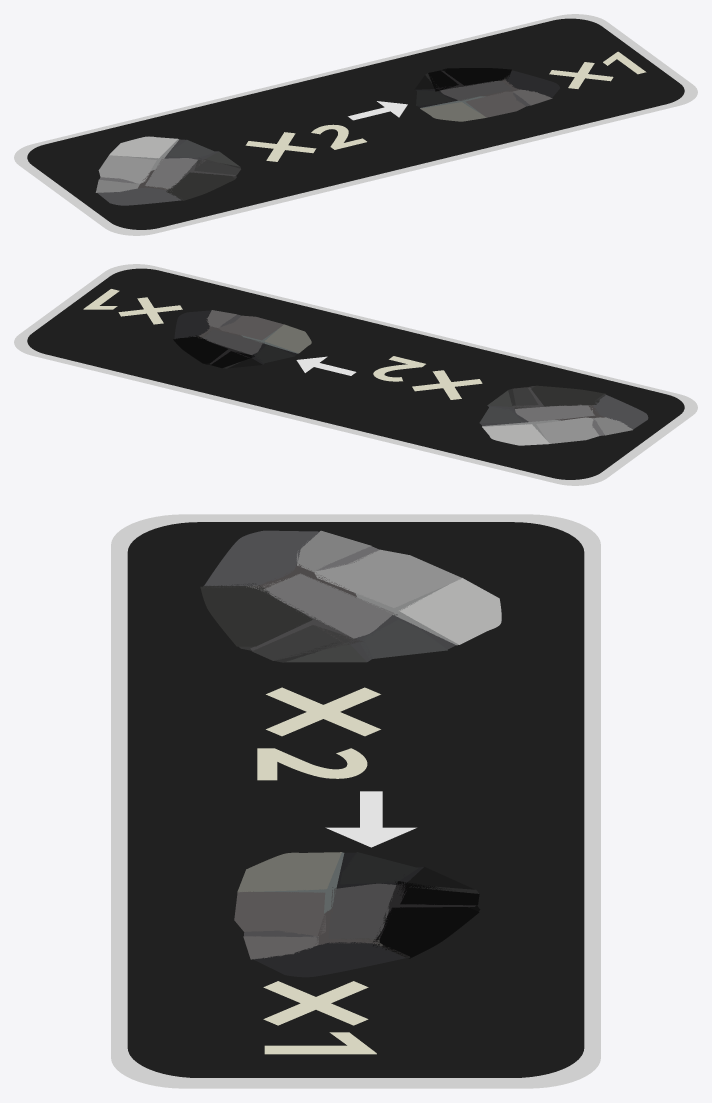
The model's file is SSWSSTTTTTTTTTTTTTOONe.fbx.
The picture shows the model from 3 angles, top to bottom: view 1: azimuth 30°, elevation 25°; view 2: azimuth 150°, elevation 25°; view 3: azimuth 270°, elevation 25°; orthographic projection. The views are drawn at different scales.
Parts seen in each view (by area): view 1: Curve.001, Curve, Curve.031, Curve.034, Curve.028, Curve.033, Curve.032, Curve.011, Curve.014, Curve.013, Curve.008, Curve.012 (+8 smaller); view 2: Curve.001, Curve, Curve.031, Curve.034, Curve.033, Curve.028, Curve.032, Curve.011, Curve.014, Curve.013, Curve.008, Curve.012 (+7 smaller); view 3: Curve.001, Curve, Curve.031, Curve.034, Curve.033, Curve.028, Curve.032, Curve.011, Curve.014, Curve.013, Curve.008, Curve.012 (+14 smaller).
Part boxes in pixels (box(x1,y1,x2,y2)): Curve.001: box(27, 18, 684, 229); Curve: box(14, 14, 697, 235); Curve.031: box(98, 155, 156, 183); Curve.034: box(166, 172, 235, 200); Curve.028: box(97, 187, 180, 205); Curve.033: box(109, 136, 177, 158); Curve.032: box(145, 158, 197, 188); Curve.011: box(465, 91, 525, 117); Curve.014: box(445, 68, 511, 85); Curve.013: box(420, 102, 486, 121); Curve.008: box(505, 70, 559, 97); Curve.012: box(440, 80, 512, 100); Curve.001: box(27, 268, 684, 479); Curve: box(14, 264, 697, 485); Curve.031: box(536, 417, 599, 443); Curve.034: box(531, 385, 605, 406); Curve.033: box(482, 424, 549, 445); Curve.028: box(593, 395, 648, 429); Curve.032: box(515, 404, 594, 421); Curve.011: box(219, 315, 283, 340); Curve.014: box(173, 335, 227, 363); Curve.013: box(264, 324, 311, 353); Curve.008: box(174, 310, 211, 338); Curve.012: box(202, 329, 263, 354); Curve.001: box(127, 522, 584, 1077); Curve: box(111, 514, 600, 1088); Curve.031: box(313, 549, 462, 607); Curve.034: box(200, 583, 312, 646); Curve.033: box(399, 578, 501, 644); Curve.028: box(204, 530, 319, 585); Curve.032: box(264, 573, 394, 638); Curve.011: box(234, 891, 325, 936); Curve.014: box(373, 907, 479, 958); Curve.013: box(237, 852, 341, 892); Curve.008: box(253, 942, 405, 977); Curve.012: box(328, 883, 396, 939).
Bounding box in the file's own units: 8.83 × 0.06 × 3.18.
